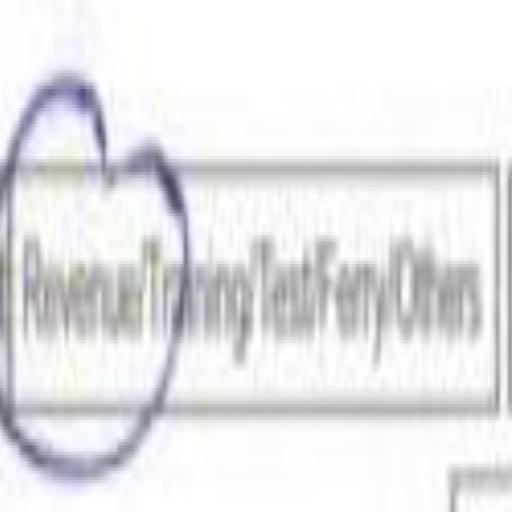check: (18, 65, 143, 482)
